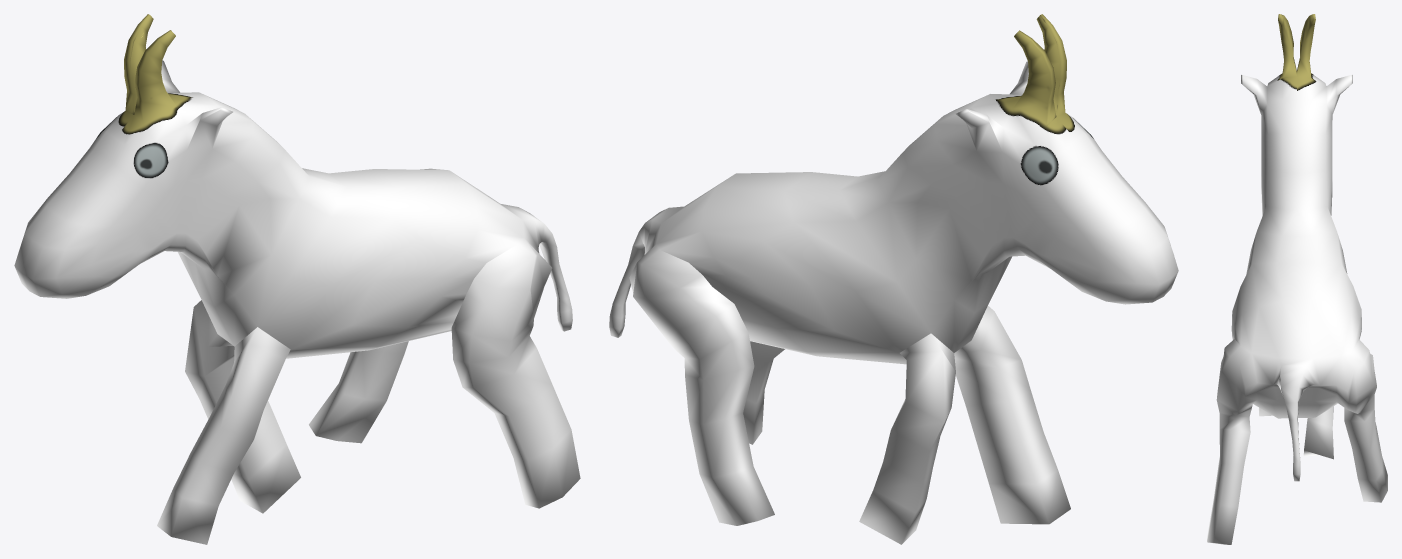
File: goatAnim_000017.obj
3 renders of one model, left to right at view 1: azimuth 30°, elevation 25°; view 2: azimuth 150°, elevation 25°; view 3: azimuth 270°, elevation 25°, orthographic. The views are drawn at different scales.
Visible parts, largest first — view 1: Cube; view 2: Cube; view 3: Cube.
Boxes of the visible parts, x1,y1,x2,y2 form: Cube: (14,14,580,544); Cube: (609,14,1178,544); Cube: (1207,14,1387,544).
Bounding box in the file's own units: 1.31 × 1.2 × 0.4842.
